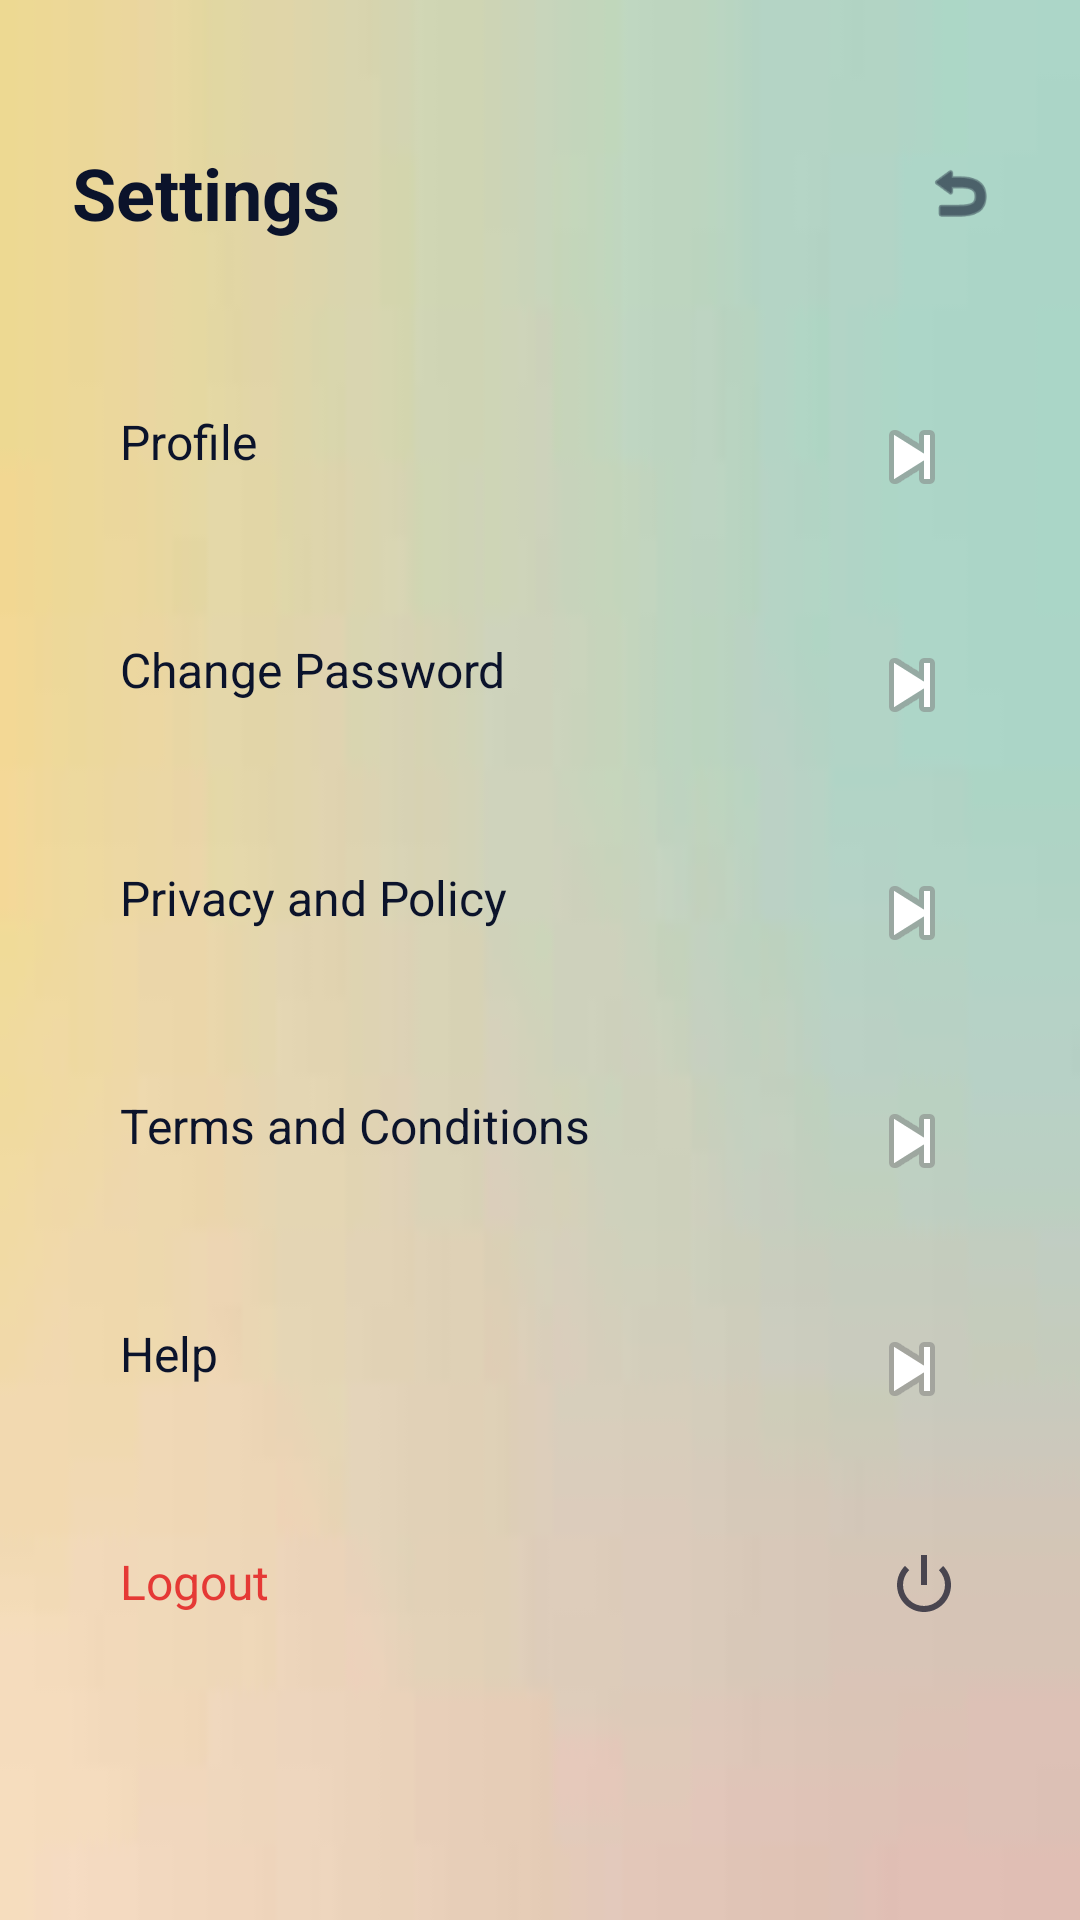

Named icons in this screenshot (1080×1920) and their bounding boxes, (x1, y1, x2, y2):
revert: (935, 170, 987, 217)
